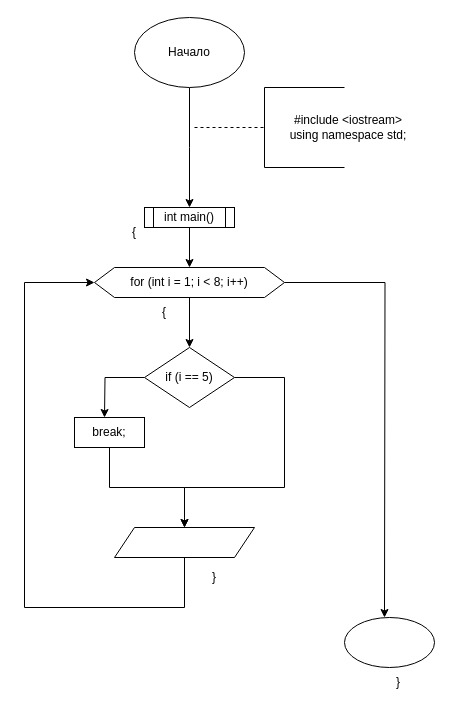
The diagram is 452 pixels wide and 715 high, and some of its shapes have lost their labels. Here are the shapes that lost their labels. From the top down, the centre of each, then its label:
point 184,542: cout << i << '\n';
point 389,642: return 0;
